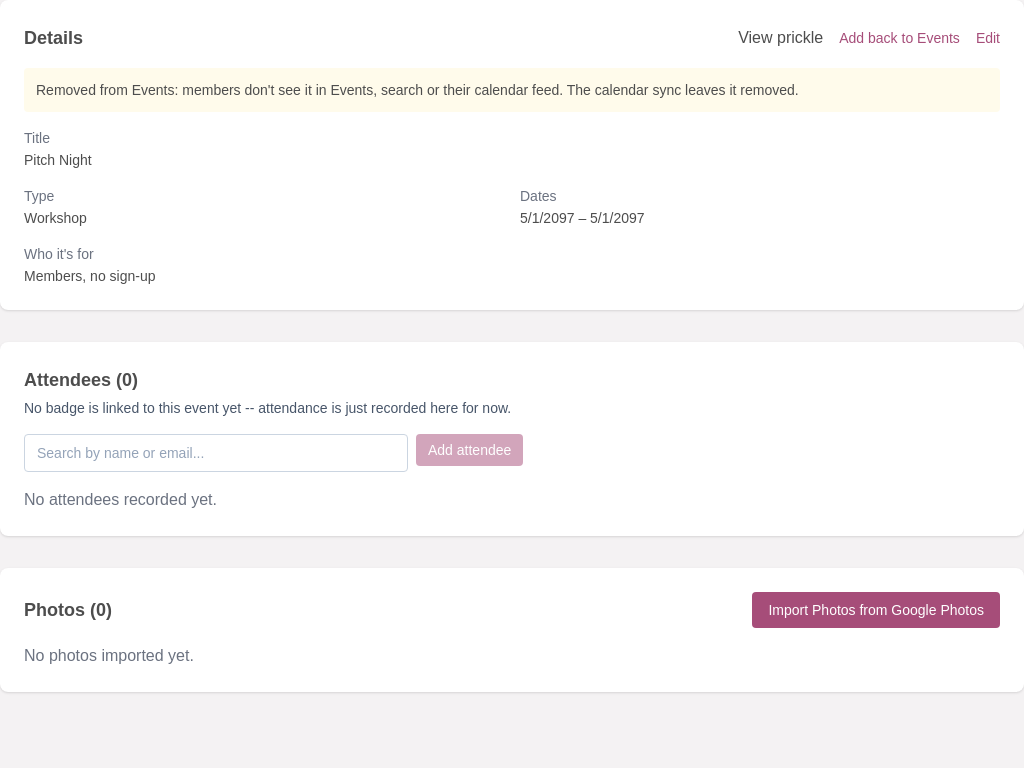
hiding an event from members › says the calendar sync leaves a hidden calendar event hidden, and shows it again on request
The width and height of the screenshot is (1024, 768).
Expected: the text "The calendar sync leaves it removed." is shown, [563, 82, 799, 98]
What coordinates should you click on to do the following:
click the button "Add back to Events"
I would click on:
 (900, 38)
Its box is [839, 26, 960, 50].
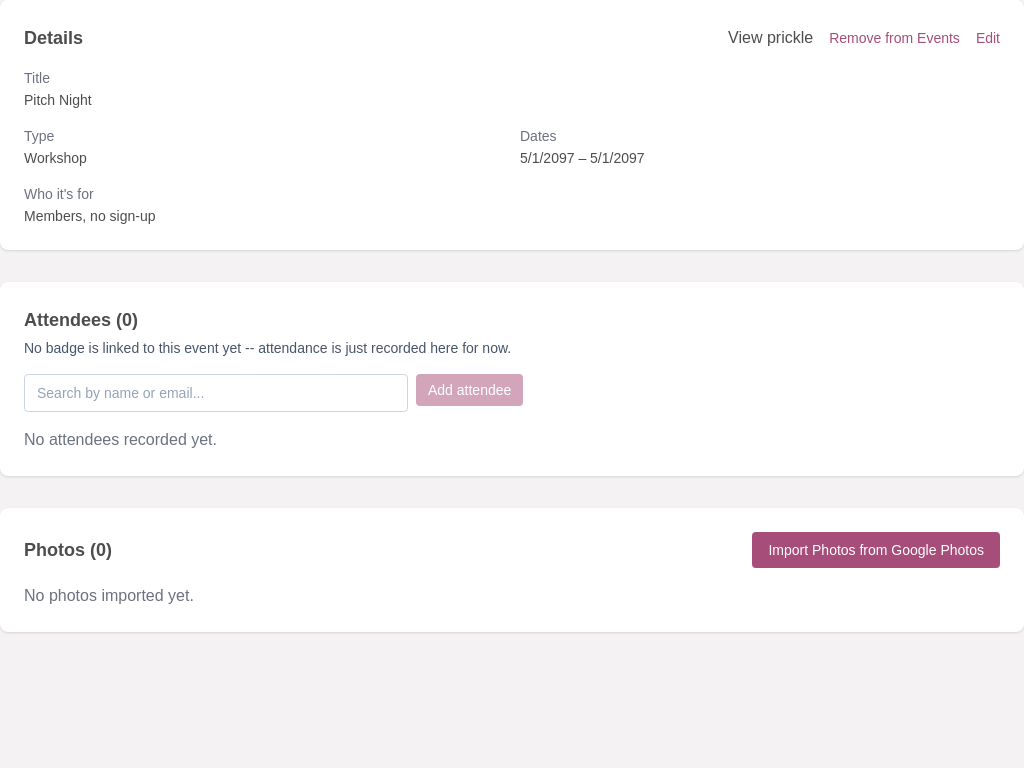
Expected: the text "Removed from Events: members don't see" is gone
